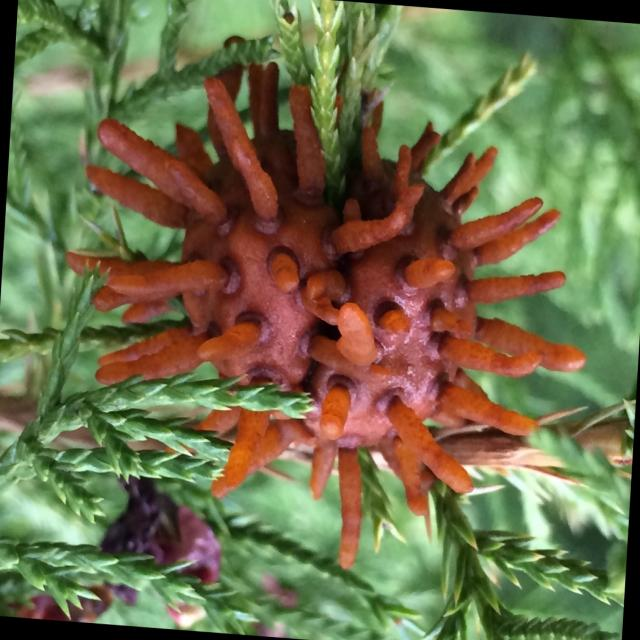Gymnosporangium_Rusts: (65, 44, 587, 569)
